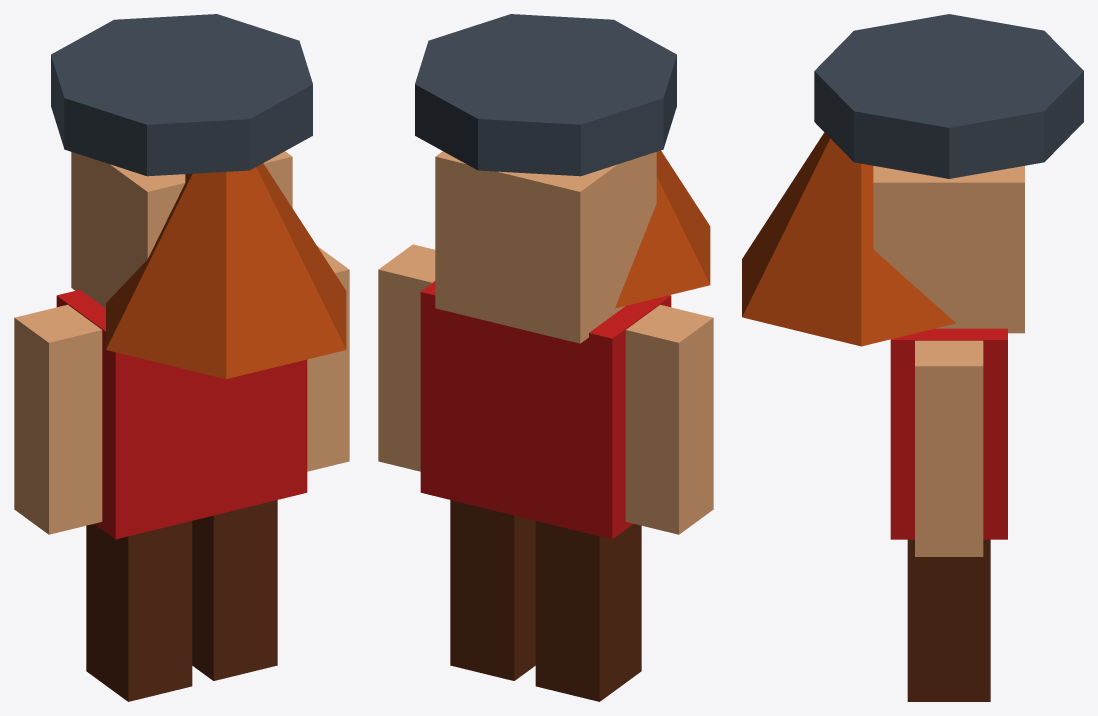
Rendered from dwarf.obj.
The picture shows the model from 3 angles, left to right: view 1: azimuth 30°, elevation 25°; view 2: azimuth 150°, elevation 25°; view 3: azimuth 270°, elevation 25°; orthographic projection.
Visible parts, largest first — view 1: models/characters/dwarf.obj; view 2: models/characters/dwarf.obj; view 3: models/characters/dwarf.obj.
Part boxes in pixels (x1=…): models/characters/dwarf.obj: x1=14, y1=14, x2=349, y2=701; models/characters/dwarf.obj: x1=378, y1=14, x2=713, y2=701; models/characters/dwarf.obj: x1=742, y1=14, x2=1083, y2=701.
Bounding box in the file's own units: 1.1 × 2.09 × 1.09.
